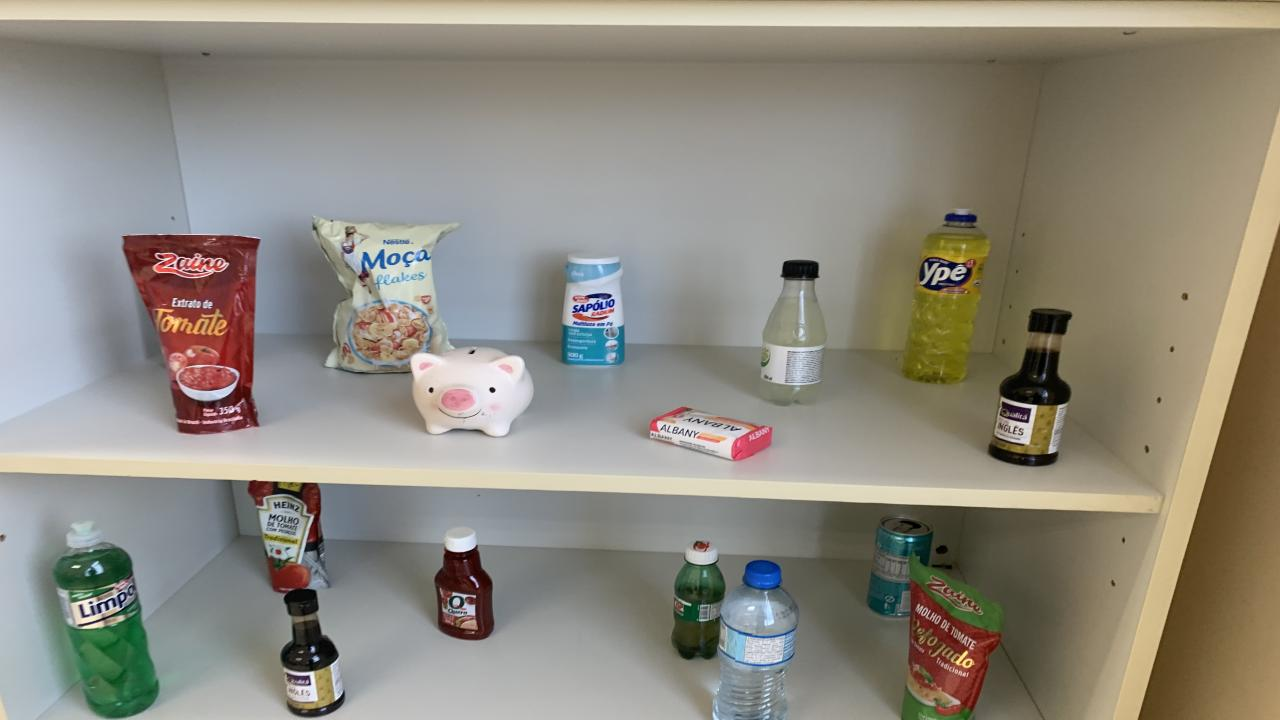Cleaner-Cleanup_Items: (562, 253, 625, 366)
Detergent-Cleanup_Items: (52, 521, 158, 718), (902, 212, 990, 384)
English_Sauce-Pantry_Items: (988, 309, 1070, 465), (280, 589, 345, 716)
Flakes-Snacks: (312, 216, 458, 373)
Guarana-Drinks: (672, 542, 725, 660)
Ketchup-Pantry_Items: (435, 527, 495, 639)
Pig_Safe-Miscellaneous: (410, 347, 535, 437)
Soap-Cleanup_Items: (650, 407, 772, 459)
Soda-Drinks: (760, 261, 828, 405)
Tea-Drinks: (868, 516, 932, 617)
Tomato_Sauce-Pantry_Items: (122, 234, 260, 433), (902, 555, 1002, 718), (248, 480, 330, 592)
Water_Bottle-Drinks: (712, 561, 798, 718)
